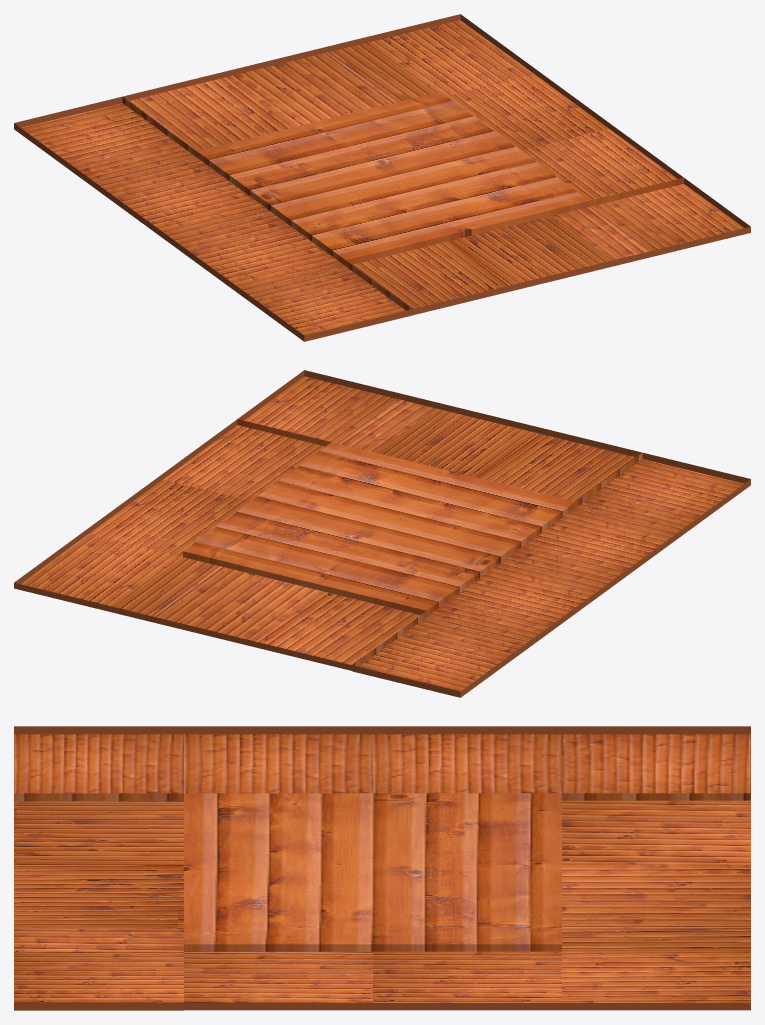
The model's file is biscuitiNPC.fbx.
3 renders of one model, top to bottom at view 1: azimuth 30°, elevation 25°; view 2: azimuth 150°, elevation 25°; view 3: azimuth 270°, elevation 25°, orthographic. The views are drawn at different scales.
Visible parts, largest first — view 1: Plan1Biscuiti; view 2: Plan1Biscuiti; view 3: Plan1Biscuiti.
Boxes of the visible parts, box(x1,y1,x2,y2) form: Plan1Biscuiti: box(14, 14, 750, 341); Plan1Biscuiti: box(14, 370, 750, 697); Plan1Biscuiti: box(14, 726, 750, 1010).
Bounding box in the file's own units: 804 × 10.79 × 906.
1 material, 1 textured.
